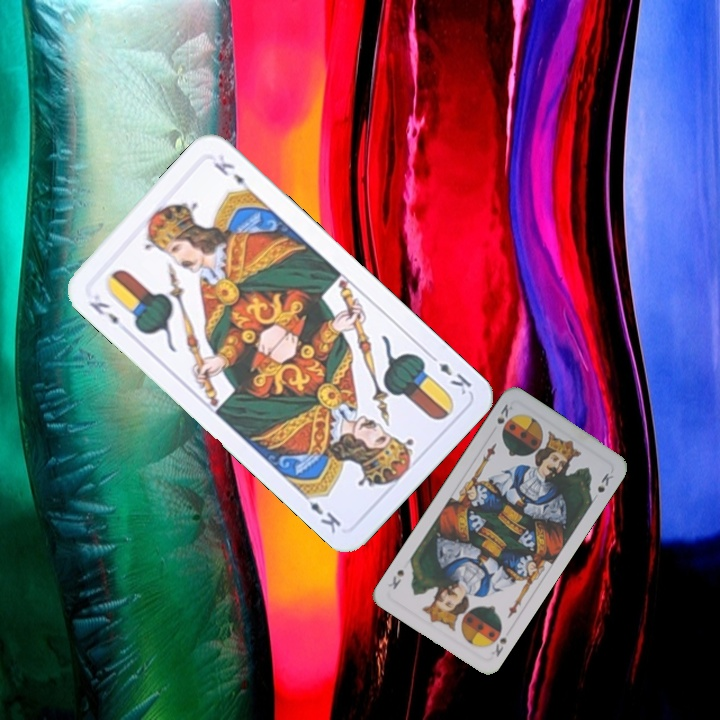EK: (424, 349, 474, 398), (85, 297, 122, 328)
SK: (493, 400, 514, 434), (487, 633, 510, 659)
